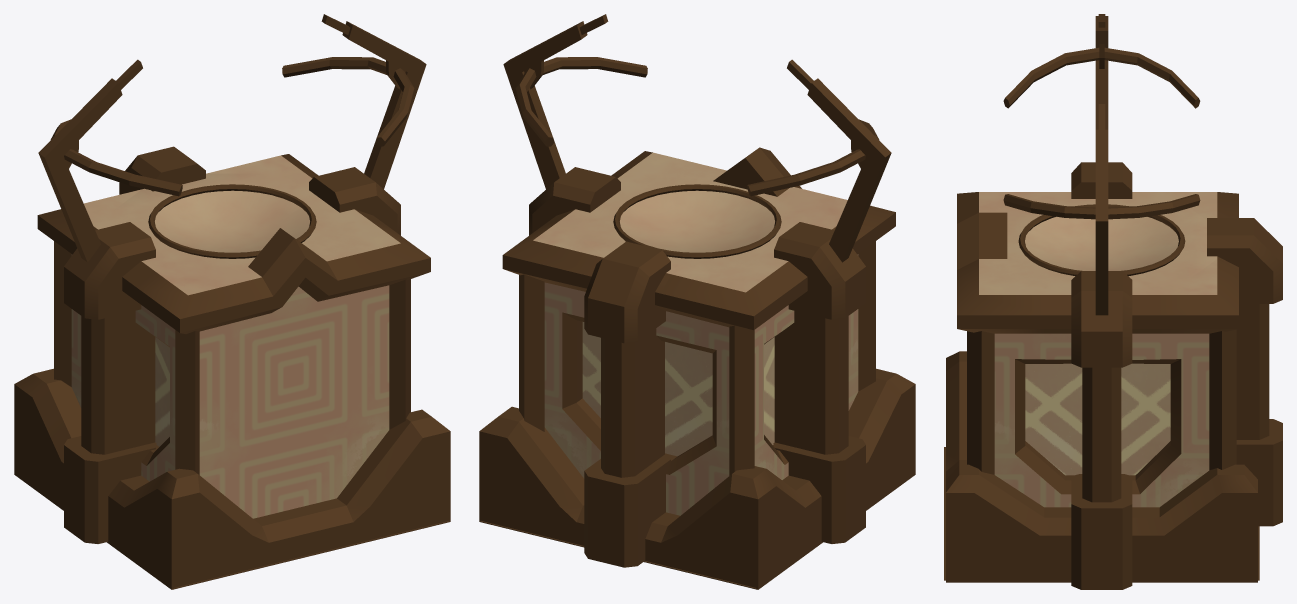
File: Pedastal_Singularity.fbx
3 views of the same model, side by side, from view 1: azimuth 30°, elevation 25°; view 2: azimuth 150°, elevation 25°; view 3: azimuth 270°, elevation 25° (orthographic).
Visible parts, largest first — view 1: Singularity_Pedastal; view 2: Singularity_Pedastal; view 3: Singularity_Pedastal.
Boxes of the visible parts, x1,y1,x2,y2 form: Singularity_Pedastal: (14, 14, 450, 589); Singularity_Pedastal: (479, 14, 915, 589); Singularity_Pedastal: (944, 14, 1282, 589).
Bounding box in the file's own units: 1.38 × 1.59 × 1.07.
